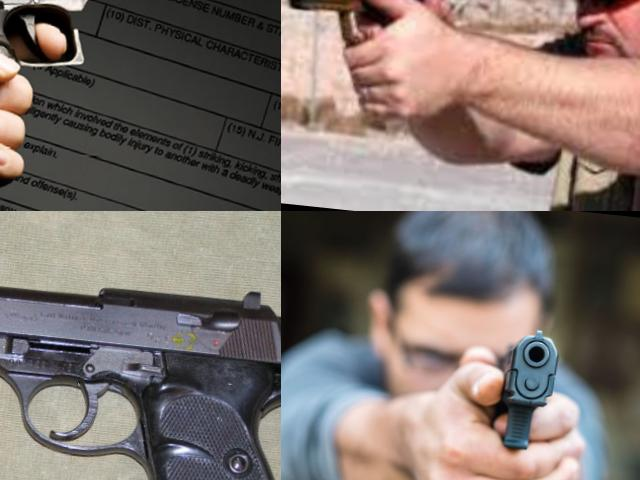handgun: (0, 243, 281, 480), (0, 0, 258, 211), (474, 322, 564, 468), (281, 0, 450, 71)
